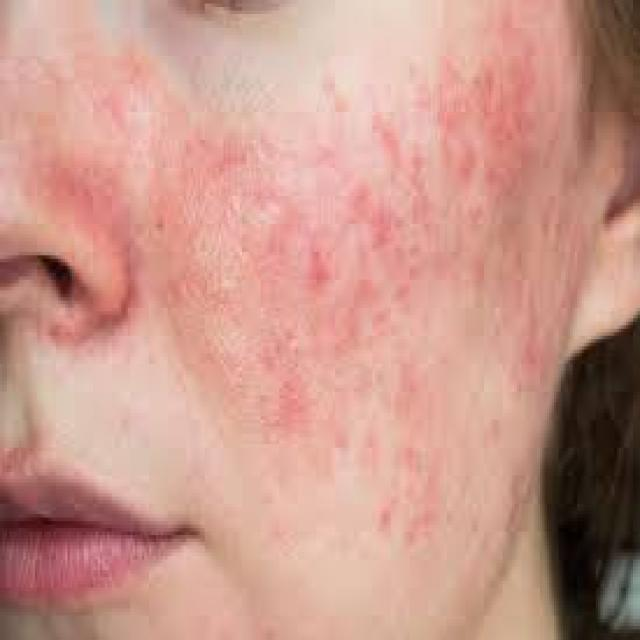Acne: (219, 77, 542, 444), (34, 137, 153, 239)
